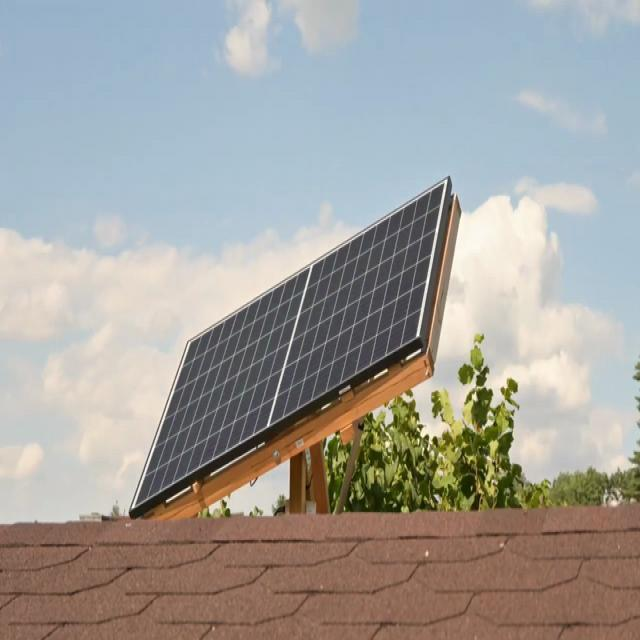Normal Solar Panel: (130, 180, 452, 517)
